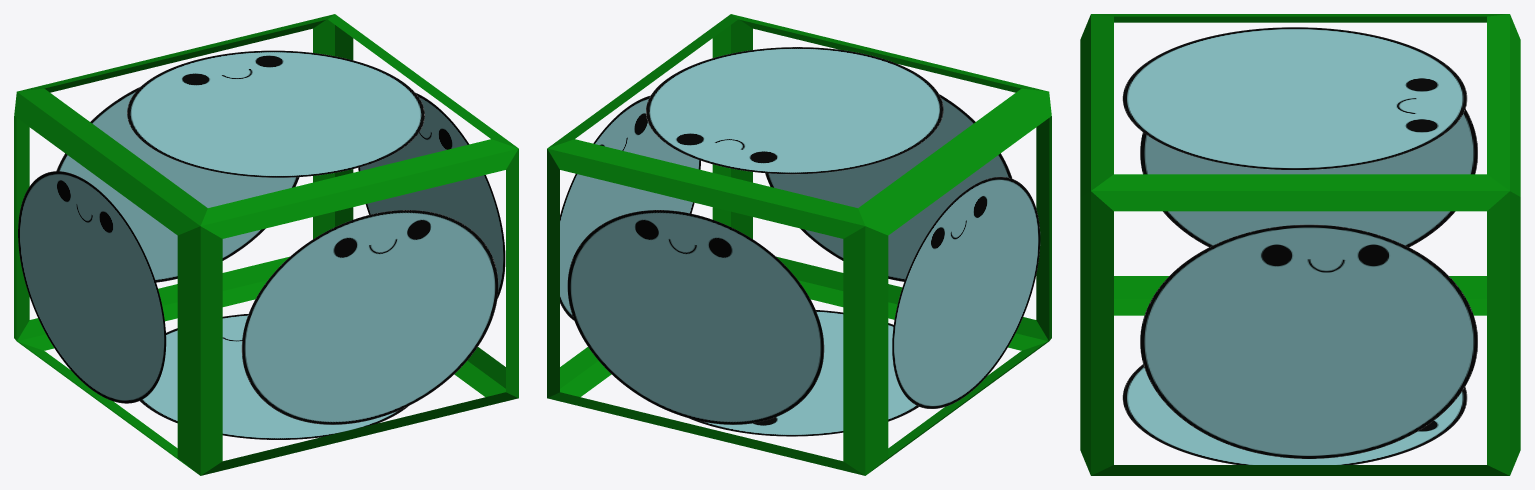
The model's file is Fracciones seis sextos.fbx.
3 renders of one model, left to right at view 1: azimuth 30°, elevation 25°; view 2: azimuth 150°, elevation 25°; view 3: azimuth 270°, elevation 25°, orthographic. The views are drawn at different scales.
Visible parts, largest first — view 1: 6/6; view 2: 6/6; view 3: 6/6.
Boxes of the visible parts, bbox=[...] form: 6/6: bbox=[14, 14, 518, 475]; 6/6: bbox=[547, 14, 1051, 475]; 6/6: bbox=[1080, 14, 1520, 475].
Bounding box in the file's own units: 213 × 158 × 210.
2 materials, 1 textured.
